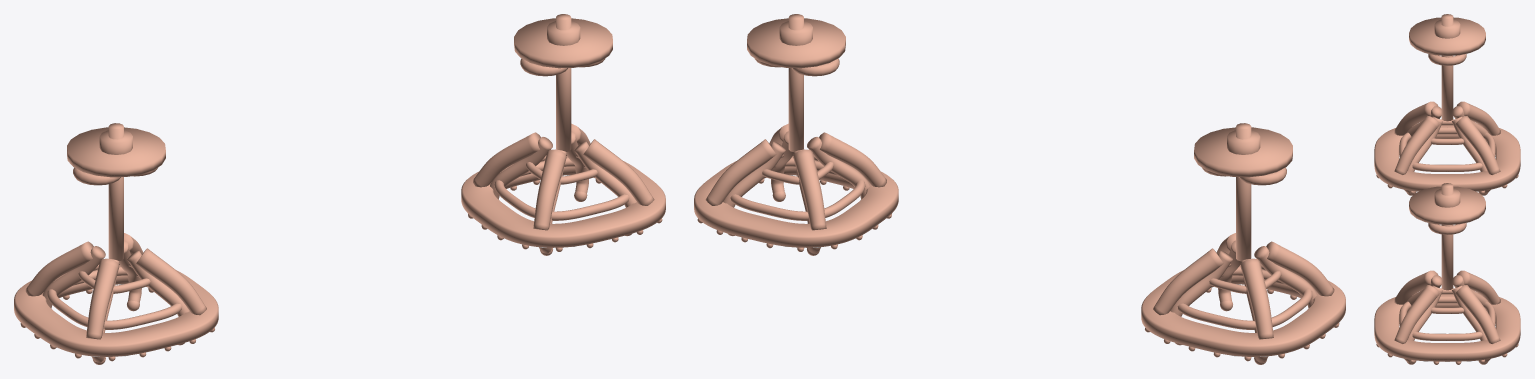
Rendered from Earring_Halo.fbx.
The picture shows the model from 3 angles, left to right: view 1: azimuth 30°, elevation 25°; view 2: azimuth 150°, elevation 25°; view 3: azimuth 270°, elevation 25°; orthographic projection. The views are drawn at different scales.
Parts seen in each view (by area): view 1: Halo_Frame, Halo_Frame.001, Head_Center, Head_Center.001, Attach_Back, Attach_Back.001, Attach_Post, Attach_Post.001; view 2: Halo_Frame, Halo_Frame.001, Head_Center, Head_Center.001, Attach_Back, Attach_Back.001, Attach_Post, Attach_Post.001; view 3: Halo_Frame, Halo_Frame.001, Attach_Back, Attach_Back.001, Head_Center.001, Head_Center, Attach_Post, Attach_Post.001.
Boxes of the visible parts, x1,y1,x2,y2 form: Halo_Frame: (461, 123, 665, 251); Halo_Frame.001: (14, 233, 218, 361); Head_Center: (490, 131, 636, 255); Head_Center.001: (42, 240, 189, 364); Attach_Back: (514, 18, 612, 76); Attach_Back.001: (67, 127, 165, 185); Attach_Post: (556, 14, 571, 151); Attach_Post.001: (108, 123, 123, 261); Halo_Frame: (694, 123, 898, 251); Halo_Frame.001: (1141, 233, 1345, 361); Head_Center: (723, 131, 869, 255); Head_Center.001: (1170, 240, 1317, 364); Attach_Back: (747, 18, 845, 76); Attach_Back.001: (1194, 127, 1292, 185); Attach_Post: (788, 14, 803, 151); Attach_Post.001: (1236, 123, 1251, 261); Halo_Frame: (1374, 270, 1520, 364); Halo_Frame.001: (1374, 101, 1520, 194); Attach_Back: (1409, 186, 1485, 234); Attach_Back.001: (1409, 17, 1485, 65); Head_Center.001: (1399, 106, 1495, 195); Head_Center: (1399, 275, 1495, 364); Attach_Post: (1441, 183, 1453, 290); Attach_Post.001: (1441, 14, 1453, 121).
Size of the model in its own units: 0.0382 by 0.0126 by 0.0102.
